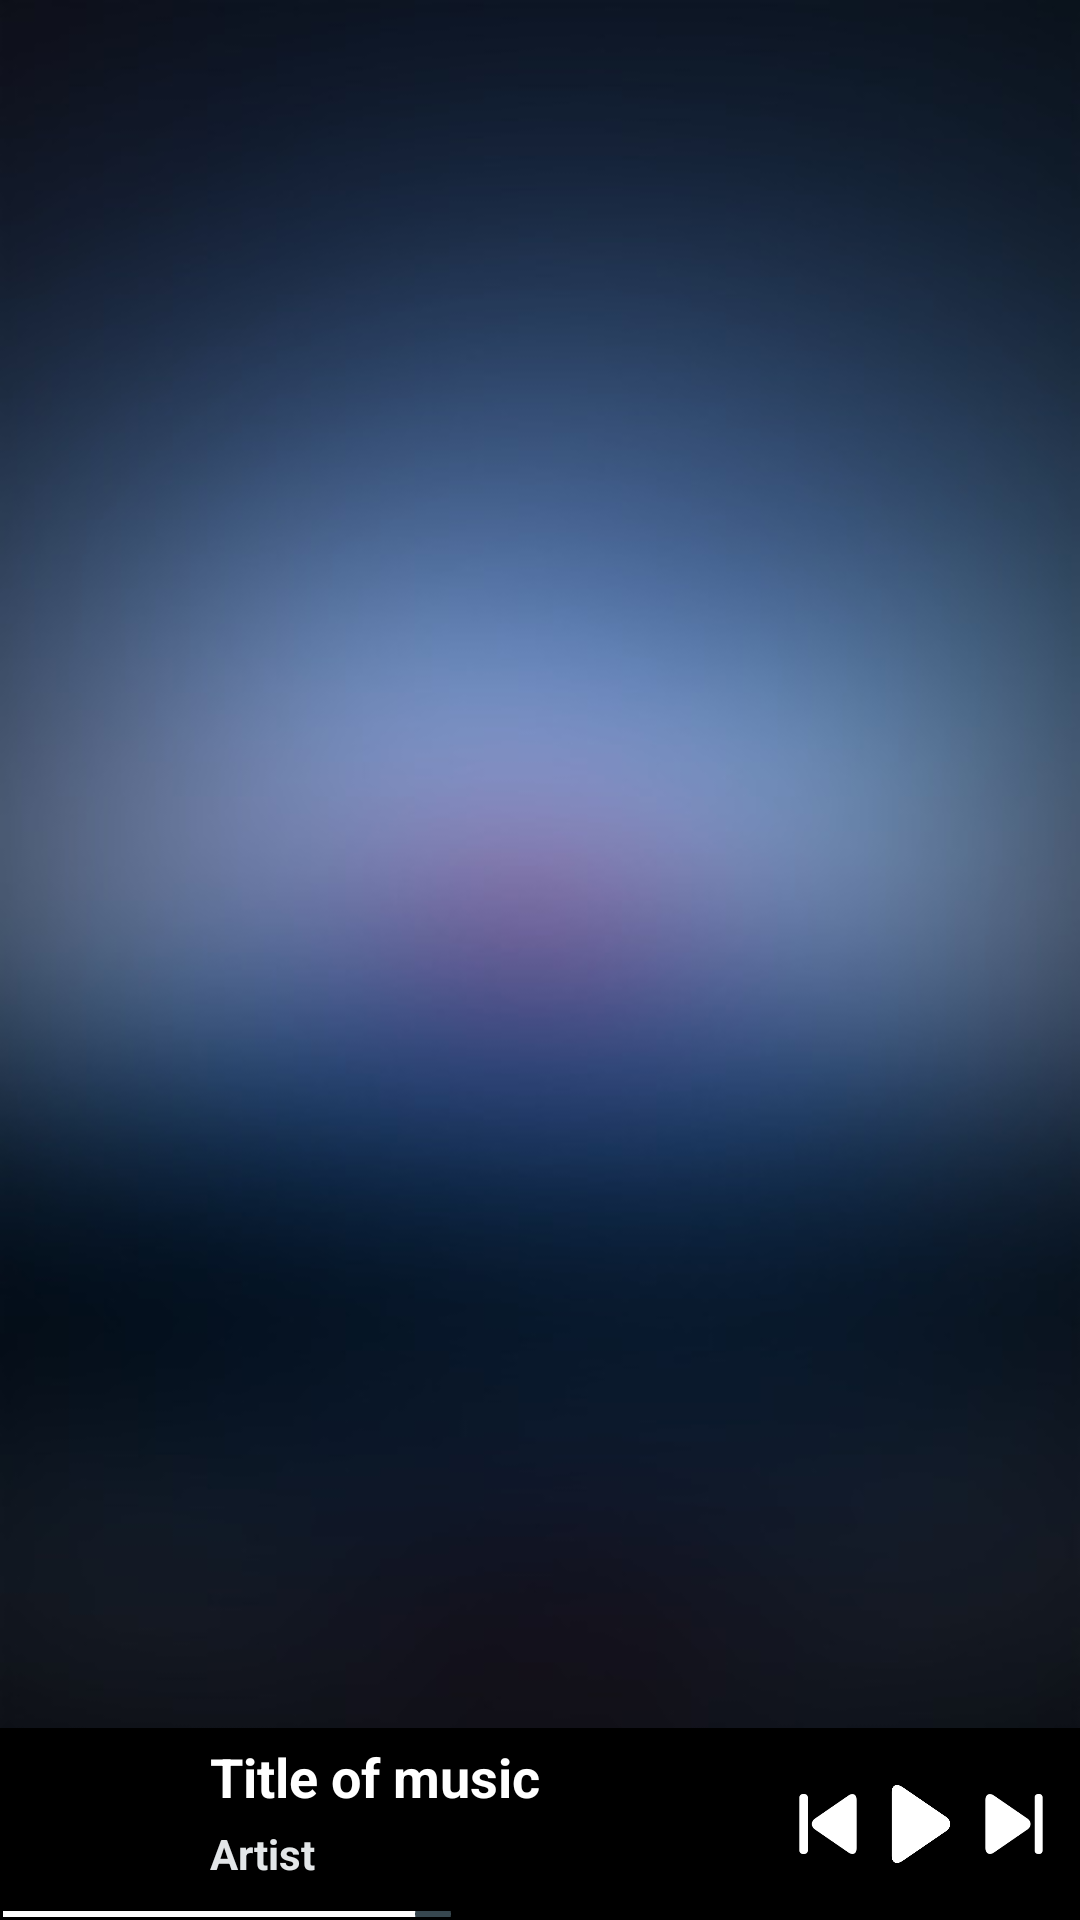

Screen size 1080×1920. Icon name, then its box in pixels as (x1, y1, x2, y2):
next: (985, 1794, 1043, 1854)
play: (892, 1785, 950, 1863)
prev: (799, 1794, 857, 1854)
